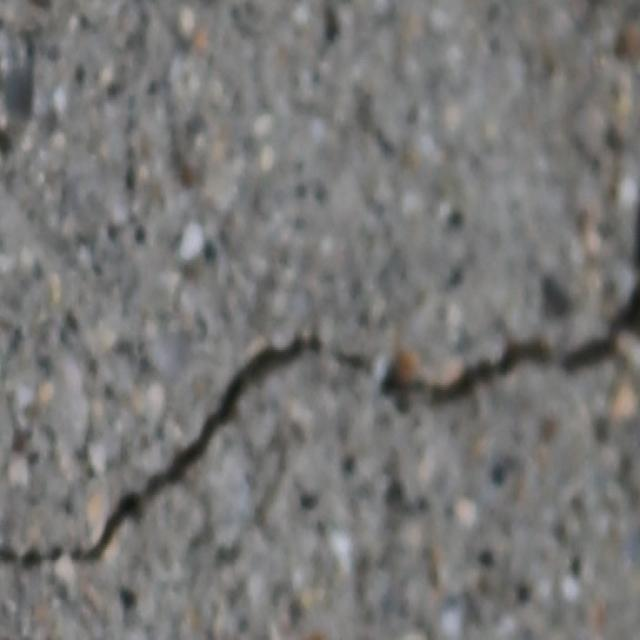crack: (0, 278, 639, 572)
